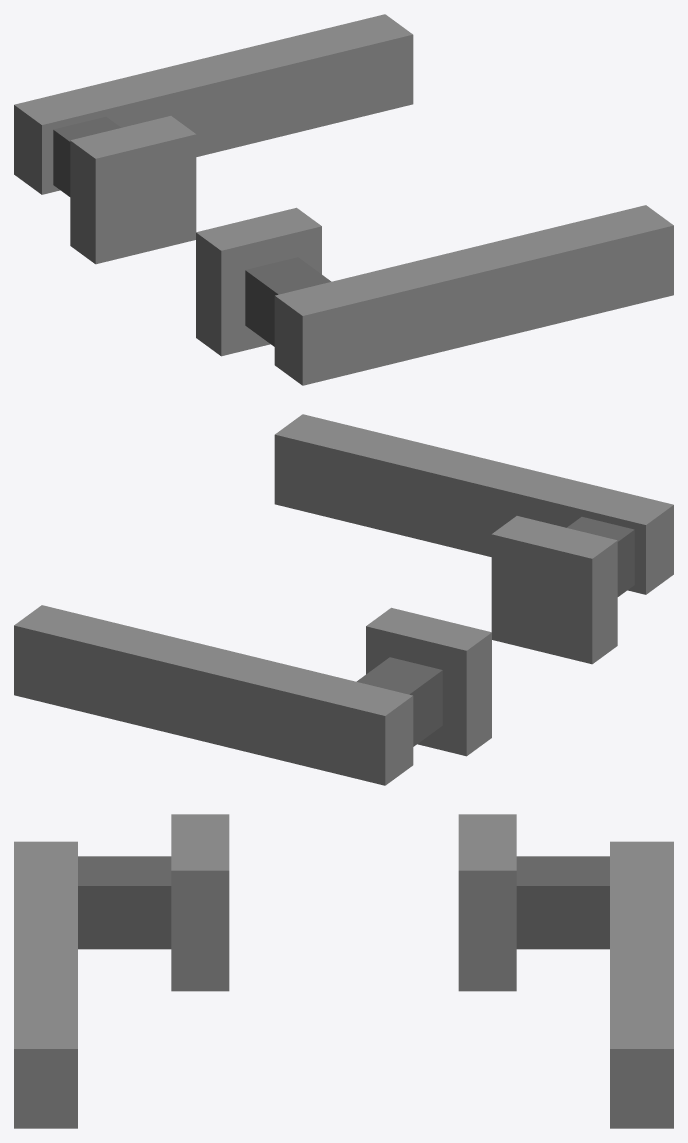
Rendered from DoorHandle3_C2.fbx.
The picture shows the model from 3 angles, top to bottom: view 1: azimuth 30°, elevation 25°; view 2: azimuth 150°, elevation 25°; view 3: azimuth 270°, elevation 25°; orthographic projection. The views are drawn at different scales.
Parts seen in each view (by area): view 1: DoorHandle3_C2; view 2: DoorHandle3_C2; view 3: DoorHandle3_C2.
Boxes of the visible parts, box(x1,y1,x2,y2) form: DoorHandle3_C2: box(14, 14, 673, 385); DoorHandle3_C2: box(14, 414, 673, 785); DoorHandle3_C2: box(14, 814, 673, 1128).
Bounding box in the file's own units: 15.28 × 4.01 × 19.91.
